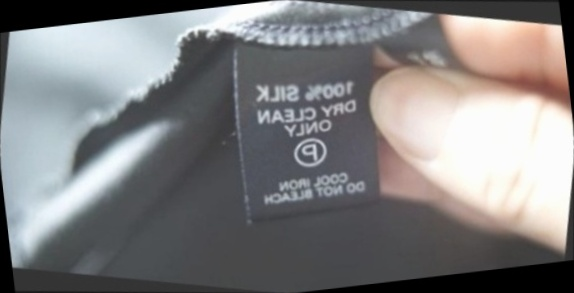dry_clean_any_solvent_except_trichloroethylene: (284, 128, 335, 176)
